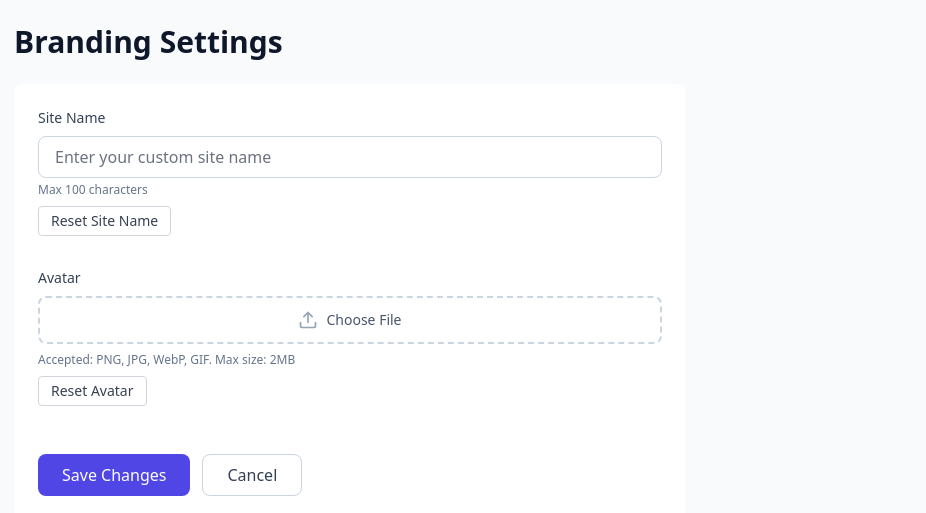
Scenario: BrandingPage - Error Message Extraction (BKNG-0109) › CT-04: Fallback Message When error is Null/Undefined › should display fallback message when error is null
The image size is (926, 513).
In the field with placeholder "Enter your custom site name": (350, 157) top-left (38, 136), bottom-right (662, 178), type "Test"
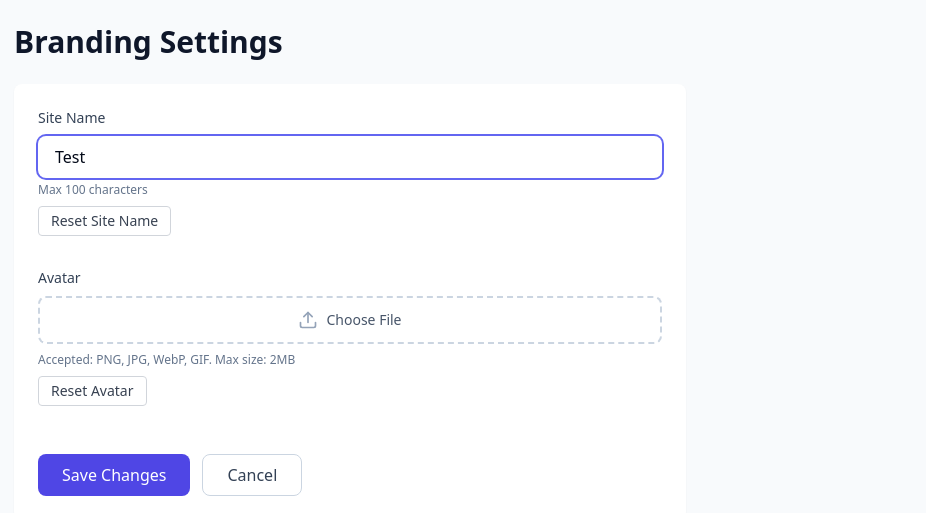
Click the button "Save Changes": (114, 475) top-left (38, 454), bottom-right (190, 496)
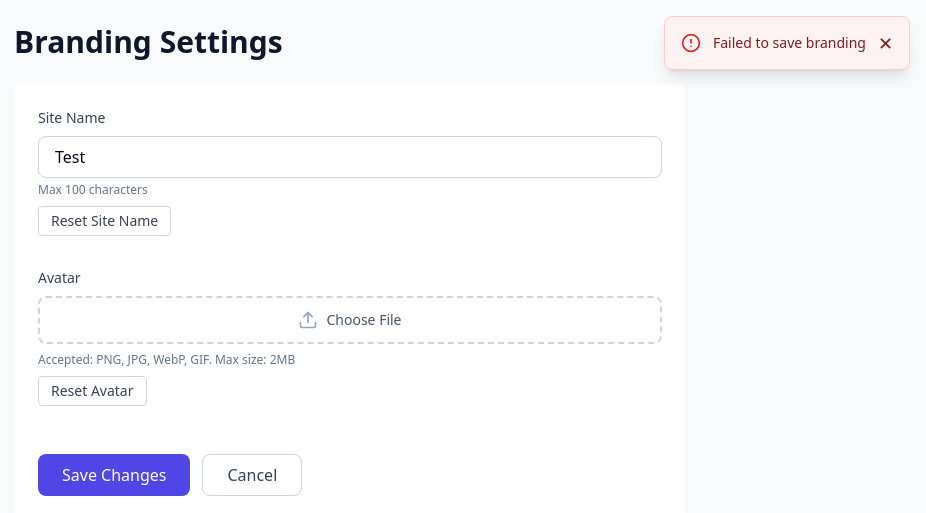
Expected: the text "Failed to save branding" is shown, top-left (713, 33), bottom-right (866, 53)
